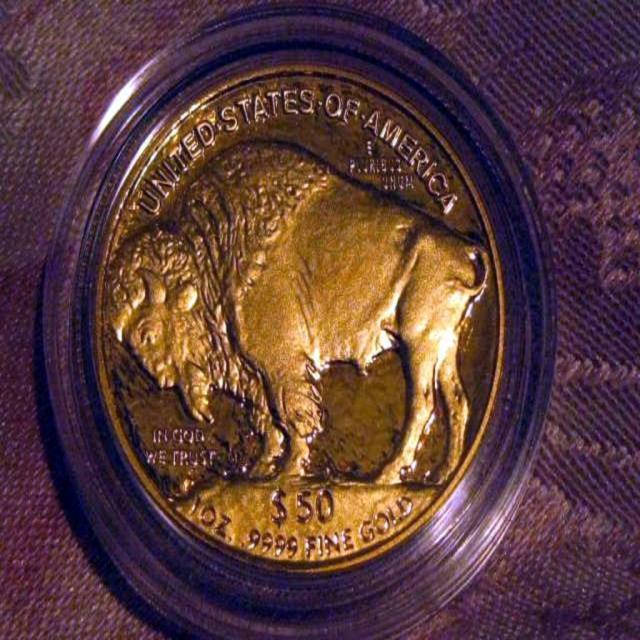Coin: (95, 61, 508, 583)
